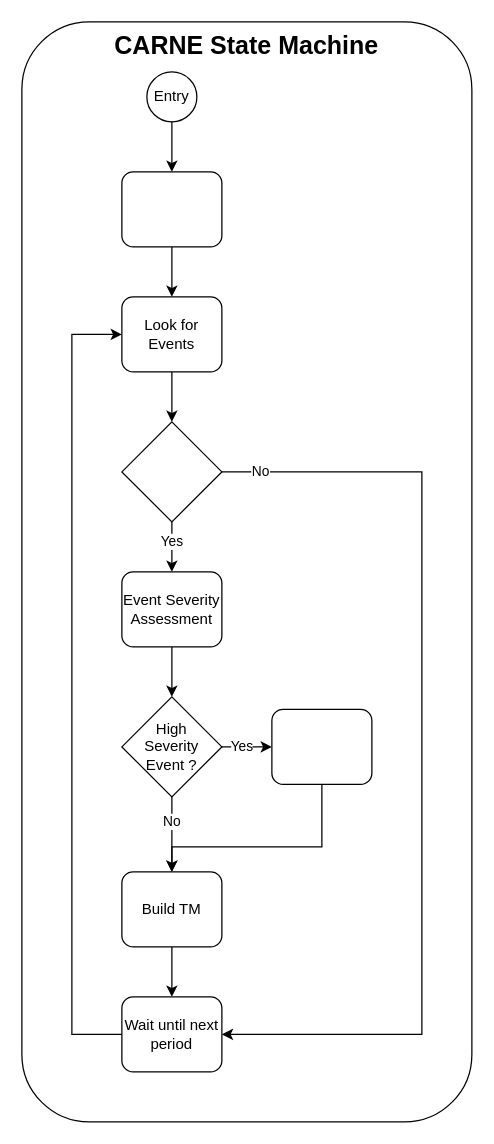
The diagram is 494 pixels wide and 1144 high, and some of its shapes have lost their labels. Each missing label, with the centre of its shape:
"Events Presence ?" belongs at (x=171, y=471).
"Initialization" belongs at (x=171, y=209).
"SAFE Mode Request" belongs at (x=321, y=746).
